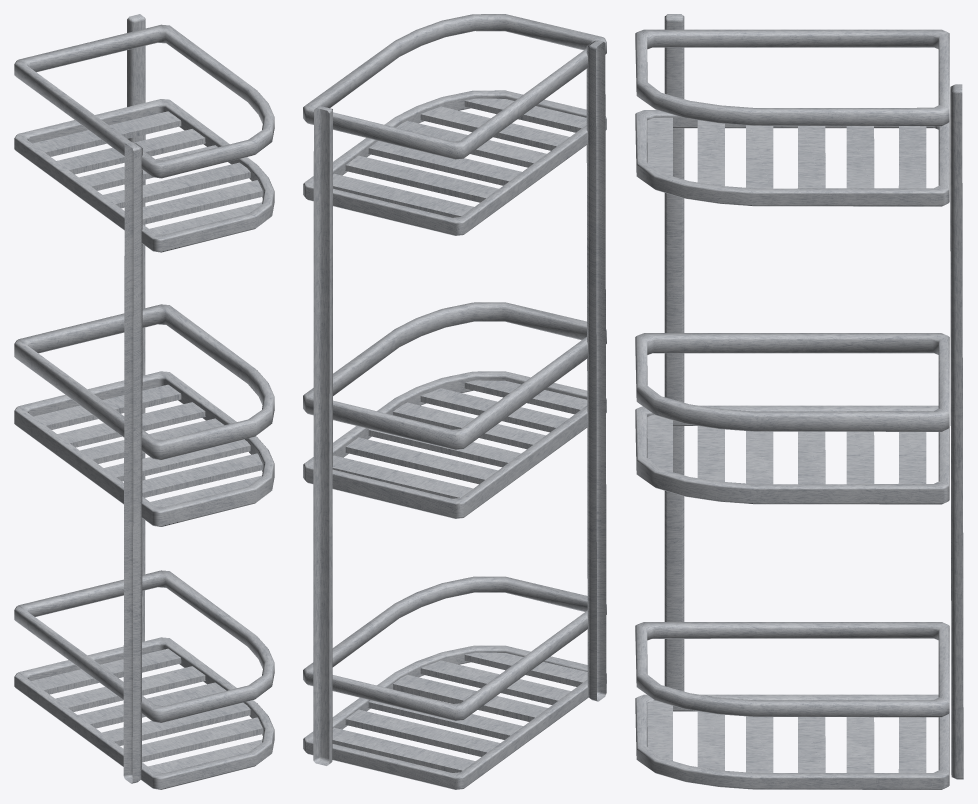
The model's file is SM_BathShelf_B1.fbx.
The picture shows the model from 3 angles, left to right: view 1: azimuth 30°, elevation 25°; view 2: azimuth 150°, elevation 25°; view 3: azimuth 270°, elevation 25°; orthographic projection. The views are drawn at different scales.
Visible parts, largest first — view 1: SM_BathShelf_B1; view 2: SM_BathShelf_B1; view 3: SM_BathShelf_B1.
Part boxes in pixels (x1=…): SM_BathShelf_B1: x1=14, y1=14, x2=274, y2=789; SM_BathShelf_B1: x1=303, y1=14, x2=606, y2=789; SM_BathShelf_B1: x1=635, y1=14, x2=963, y2=789.
Size of the model in its own units: 16.09 by 25.38 by 58.84.
1 material, 1 textured.
